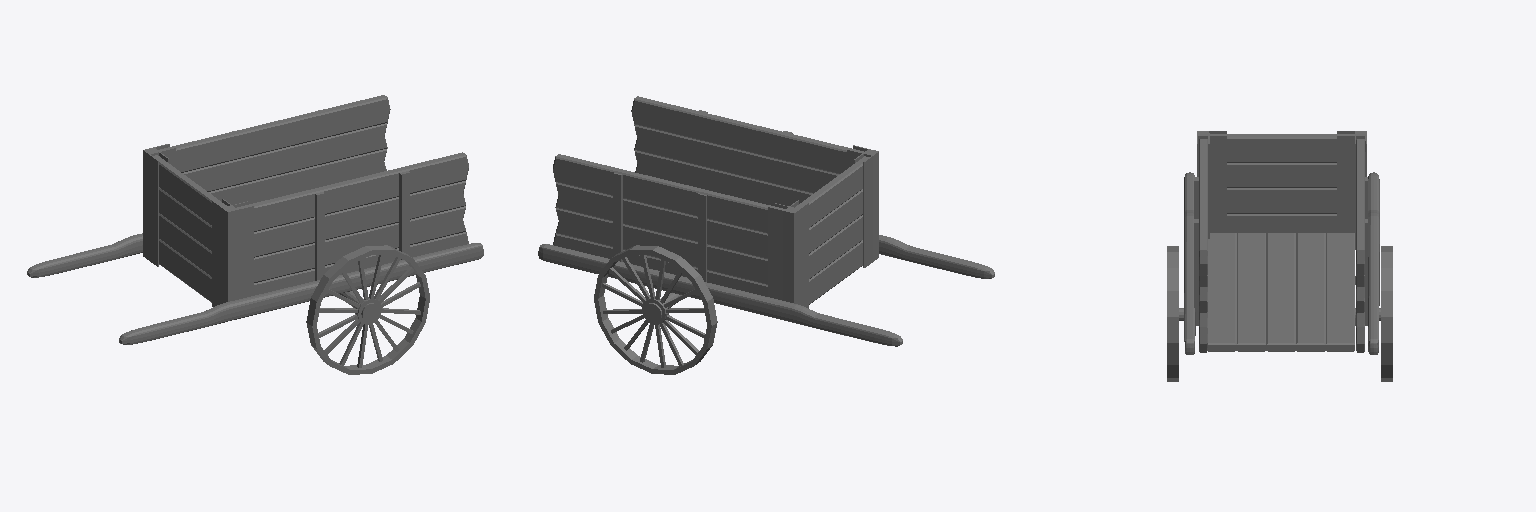
Rendered from Cart_low.obj.
3 views of the same model, side by side, from view 1: azimuth 30°, elevation 25°; view 2: azimuth 150°, elevation 25°; view 3: azimuth 270°, elevation 25° (orthographic).
Parts seen in each view (by area): view 1: Cart_low Planks4, Cart_low Planks3, Planks1 Cart_low, Cart_low Side_Peice1, Cart_low Brace4, Cart_low polySurface2 Wheel, Cart_low Brace1, Cart_low Side_Peice2, Cart_low Brace3, Cart_low Brace5; view 2: Cart_low Planks3, Cart_low Planks4, Planks1 Cart_low, Cart_low Side_Peice2, Cart_low Brace1, Cart_low Wheel polySurface15, Cart_low Brace4, Cart_low Side_Peice1, Cart_low Brace3, Cart_low Brace5; view 3: Cart_low Planks2, Planks1 Cart_low, Cart_low Side_Peice2, Cart_low Brace4, Cart_low Brace1, Cart_low Planks3, Cart_low Planks4, Cart_low Side_Peice1, Cart_low polySurface2 Wheel, Cart_low Wheel polySurface15, Cart_low Brace3.
Boxes of the visible parts, x1,y1,x2,y2 form: Cart_low Planks4: [237, 152, 468, 295]; Cart_low Planks3: [158, 95, 390, 204]; Planks1 Cart_low: [153, 155, 226, 302]; Cart_low Side_Peice1: [119, 243, 483, 344]; Cart_low Brace4: [212, 199, 253, 306]; Cart_low polySurface2 Wheel: [306, 245, 429, 374]; Cart_low Brace1: [143, 144, 175, 266]; Cart_low Side_Peice2: [27, 233, 142, 277]; Cart_low Brace3: [318, 109, 409, 259]; Cart_low Brace5: [232, 130, 324, 280]; Cart_low Planks3: [553, 154, 784, 296]; Cart_low Planks4: [631, 96, 863, 205]; Planks1 Cart_low: [795, 156, 868, 304]; Cart_low Side_Peice2: [538, 244, 902, 346]; Cart_low Brace1: [768, 200, 808, 308]; Cart_low Wheel polySurface15: [594, 245, 717, 374]; Cart_low Brace4: [847, 145, 878, 267]; Cart_low Side_Peice1: [879, 235, 994, 278]; Cart_low Brace3: [613, 110, 707, 261]; Cart_low Brace5: [698, 131, 792, 281]; Cart_low Planks2: [1207, 233, 1354, 351]; Planks1 Cart_low: [1210, 134, 1354, 232]; Cart_low Side_Peice2: [1368, 172, 1379, 354]; Cart_low Brace4: [1197, 131, 1226, 238]; Cart_low Brace1: [1337, 131, 1366, 249]; Cart_low Planks3: [1356, 139, 1364, 352]; Cart_low Planks4: [1199, 139, 1207, 352]; Cart_low Side_Peice1: [1184, 172, 1195, 354]; Cart_low polySurface2 Wheel: [1167, 246, 1178, 381]; Cart_low Wheel polySurface15: [1381, 246, 1392, 381]; Cart_low Brace3: [1194, 219, 1367, 325].
Bounding box in the file's own units: 546 × 263 × 294.